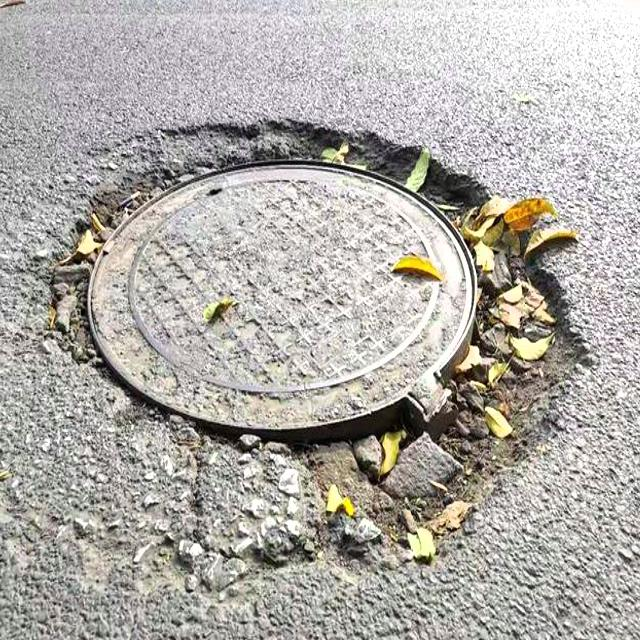circle: (0, 117, 575, 573)
